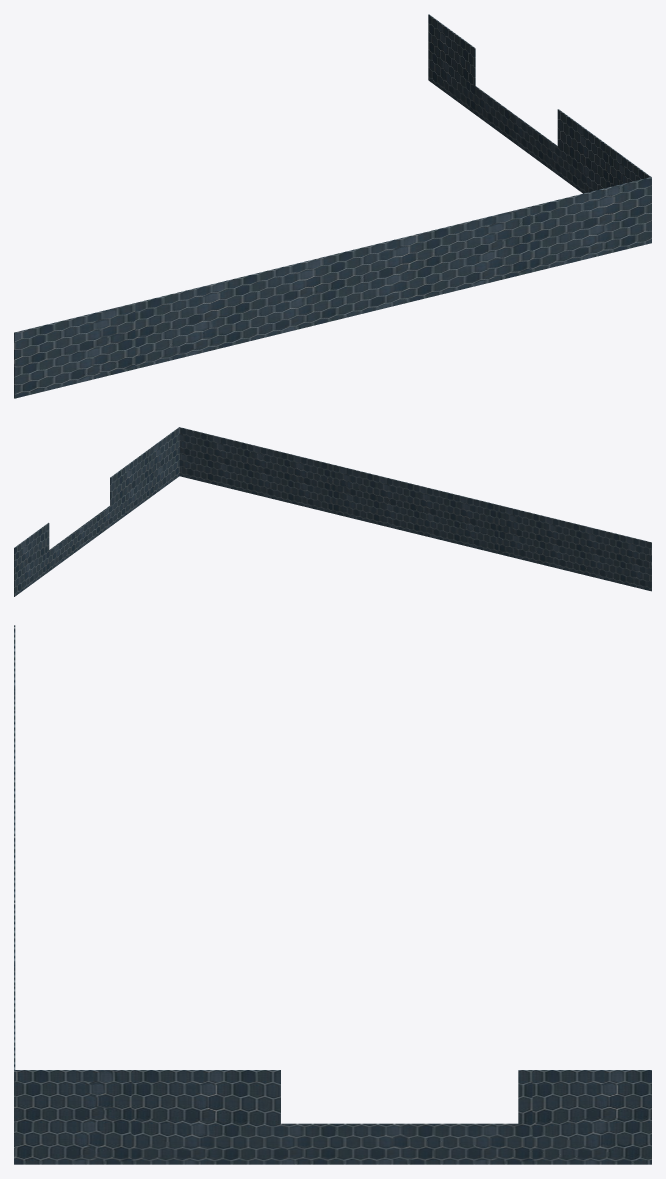
The model's file is BP_OmniNavyGlossyPicket.glb.
3 renders of one model, top to bottom at view 1: azimuth 30°, elevation 25°; view 2: azimuth 150°, elevation 25°; view 3: azimuth 270°, elevation 25°, orthographic. The views are drawn at different scales.
Parts seen in each view (by area): view 1: BP_Omni Navy Glossy Picket.; view 2: BP_Omni Navy Glossy Picket.; view 3: BP_Omni Navy Glossy Picket..
Part boxes in pixels (box(x1,y1,x2,y2)): BP_Omni Navy Glossy Picket.: box(14, 14, 651, 398); BP_Omni Navy Glossy Picket.: box(14, 427, 651, 596); BP_Omni Navy Glossy Picket.: box(14, 625, 651, 1164).
Bounding box in the file's own units: 7.1 × 0.7 × 4.3.
1 material, 1 textured.
